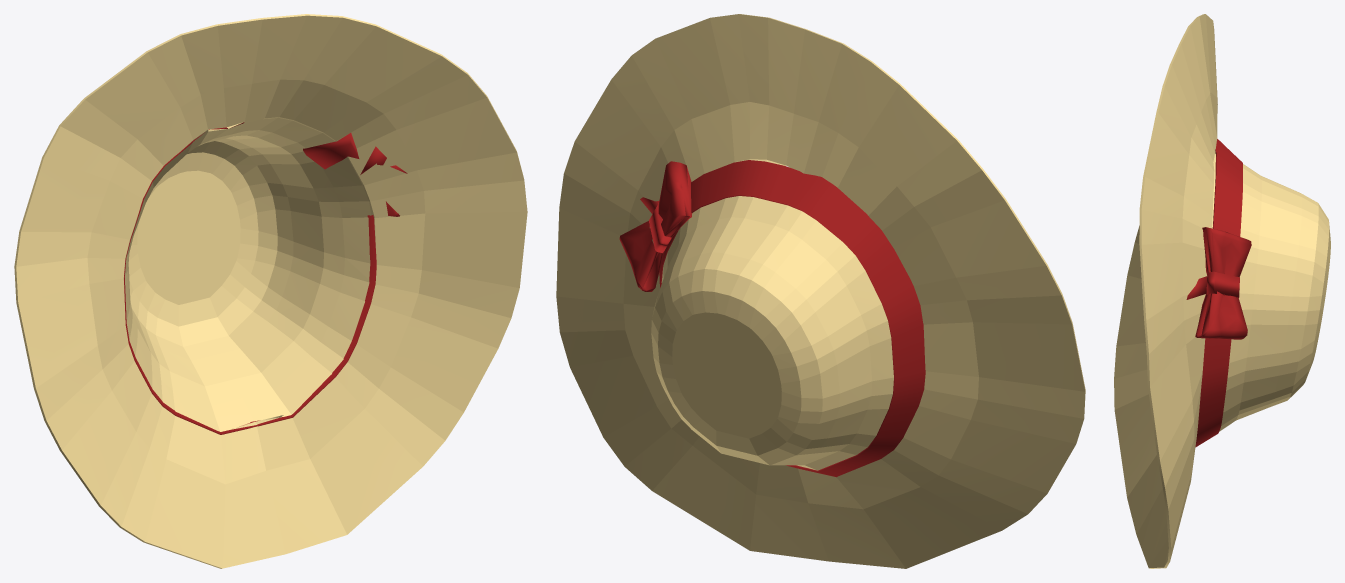
Rendered from Sun Hat-DHXCvSeF.glb.
3 renders of one model, left to right at view 1: azimuth 30°, elevation 25°; view 2: azimuth 150°, elevation 25°; view 3: azimuth 270°, elevation 25°, orthographic. The views are drawn at different scales.
Parts seen in each view (by area): view 1: Sun Hat.001; view 2: Sun Hat.001; view 3: Sun Hat.001.
Boxes of the visible parts, x1=… form: Sun Hat.001: x1=14, y1=14, x2=527, y2=568; Sun Hat.001: x1=556, y1=14, x2=1085, y2=568; Sun Hat.001: x1=1114, y1=14, x2=1330, y2=568.
Size of the model in its own units: 0.4744 by 0.4748 by 0.1893.
Materials: 1 (1 with a texture image).
